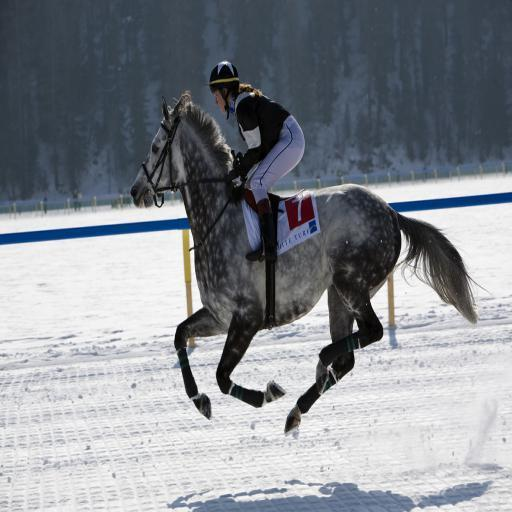horse: (129, 92, 496, 438)
